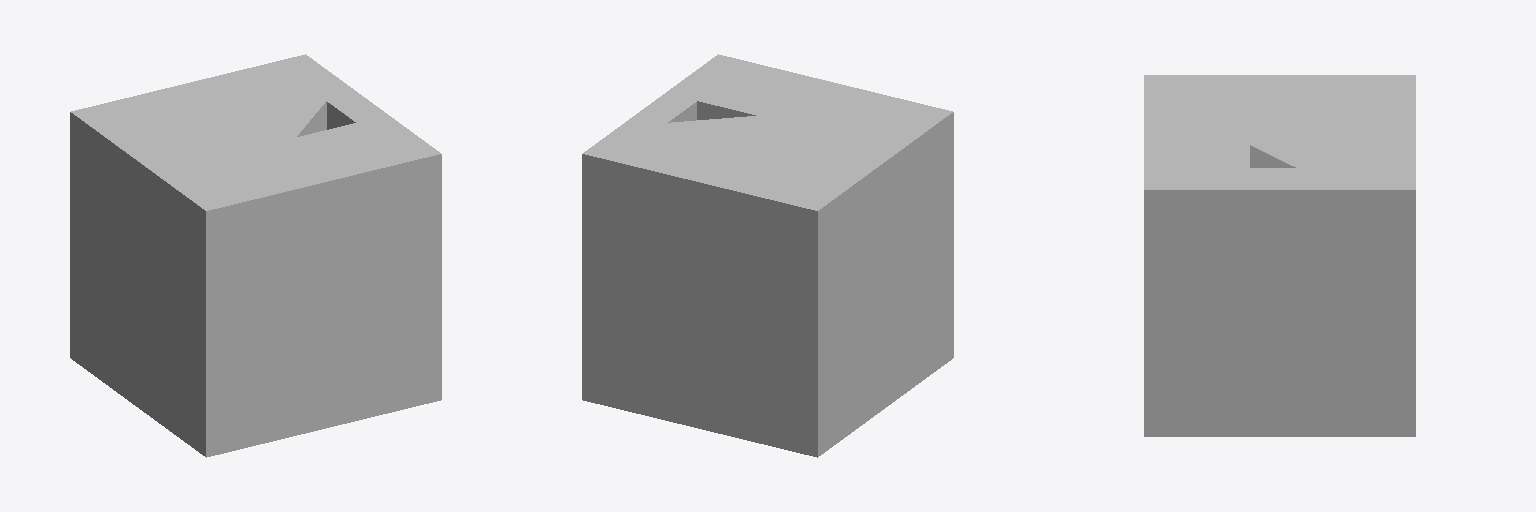
The model's file is Cross_cube_bottle.obj.
The picture shows the model from 3 angles: view 1: azimuth 30°, elevation 25°; view 2: azimuth 150°, elevation 25°; view 3: azimuth 270°, elevation 25°; orthographic projection.
Visible parts, largest first — view 1: Bottle_Cube.003; view 2: Bottle_Cube.003; view 3: Bottle_Cube.003.
Part boxes in pixels (left/top/right/bottom): Bottle_Cube.003: left=70, top=54, right=441, bottom=457; Bottle_Cube.003: left=582, top=54, right=953, bottom=457; Bottle_Cube.003: left=1144, top=75, right=1415, bottom=436.
Bounding box in the file's own units: 0.08 × 0.08 × 0.08.